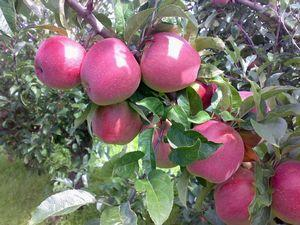apple: (79, 37, 141, 105), (184, 120, 244, 185), (141, 32, 201, 92), (214, 170, 271, 223), (32, 36, 85, 89), (91, 102, 142, 144)
